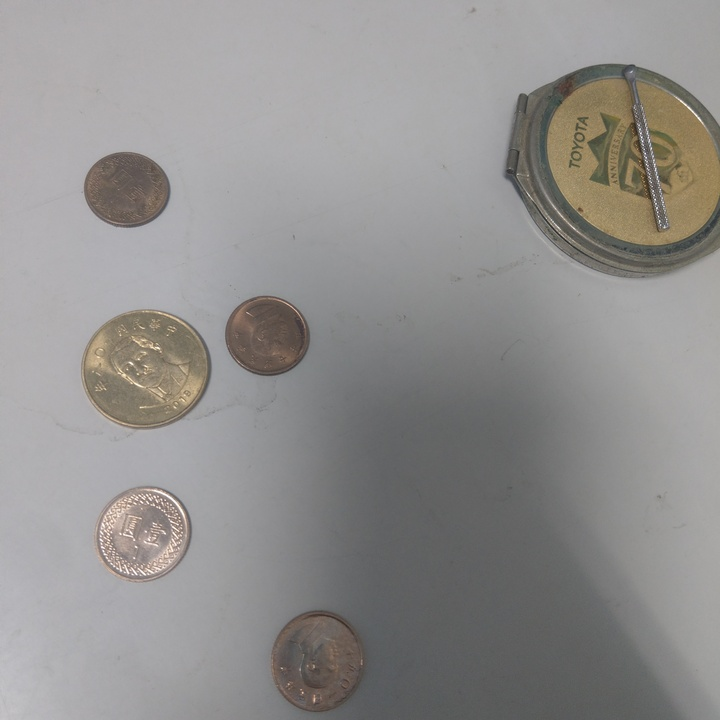1 dollar: (267, 608, 365, 714), (98, 487, 194, 584), (225, 295, 310, 378), (84, 152, 172, 228)
50 dollar: (82, 310, 214, 430)
